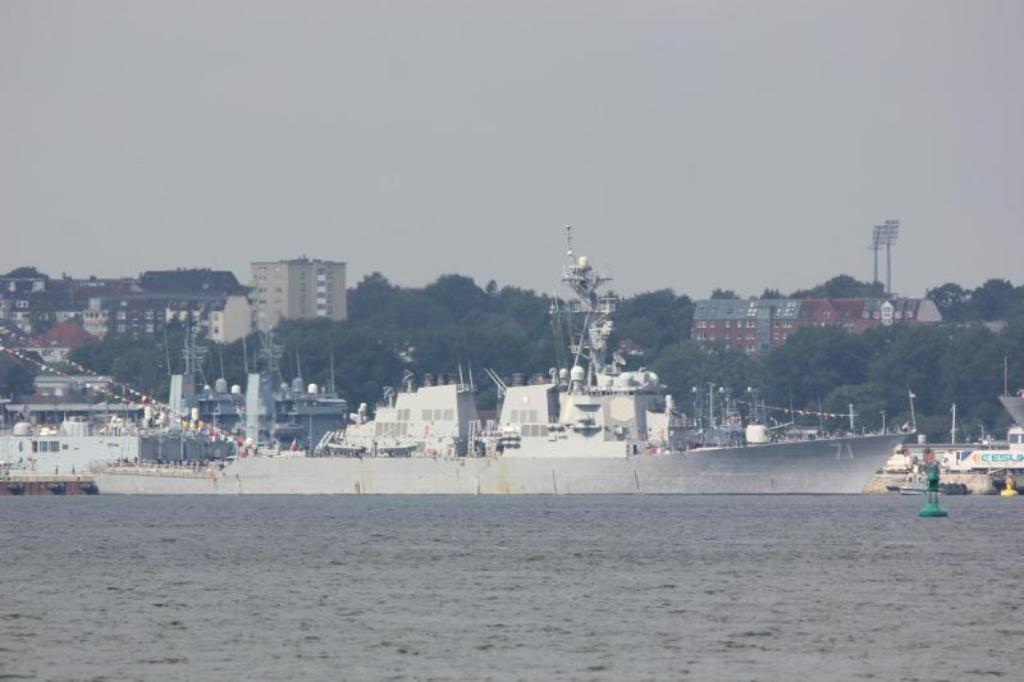Warship: (86, 220, 922, 500)
